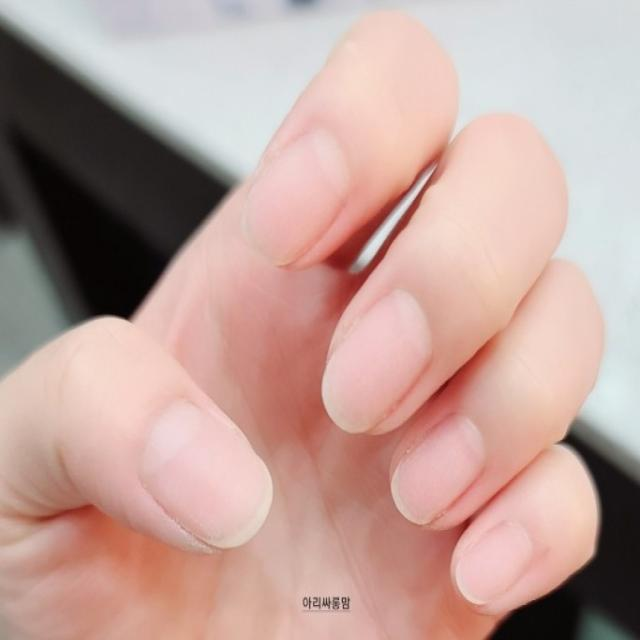Nail: (138, 398, 272, 549), (242, 128, 352, 271), (321, 290, 431, 431), (391, 415, 484, 524), (453, 518, 537, 605)
